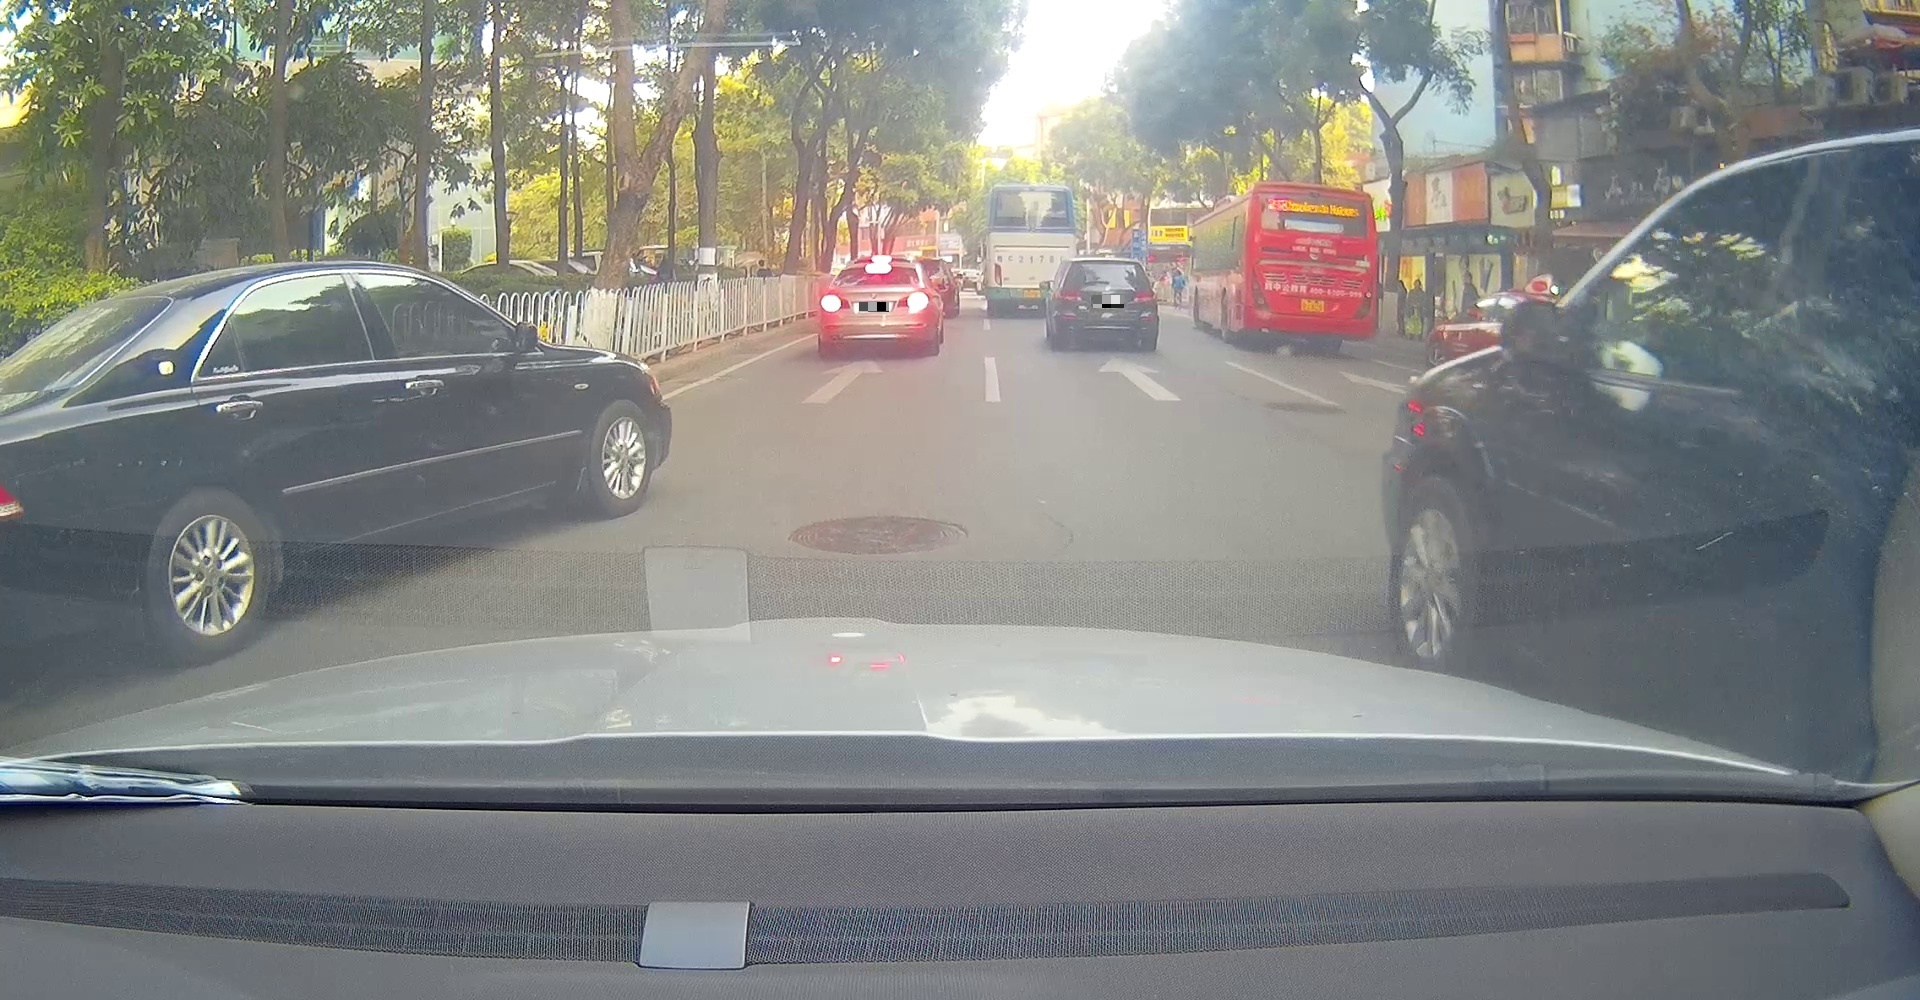L_light: (1252, 274, 1270, 312), (820, 294, 850, 313), (1057, 291, 1083, 305)
R_light: (898, 292, 930, 311), (1356, 284, 1371, 319), (1133, 291, 1157, 305)
T_light: (865, 265, 893, 274), (1305, 194, 1330, 202), (1097, 261, 1115, 266)
day-brake: (817, 261, 933, 357)
day-no: (1247, 181, 1377, 358), (1051, 260, 1158, 352)
plate_1: (858, 302, 889, 312)
plate_2: (1093, 294, 1124, 308)
